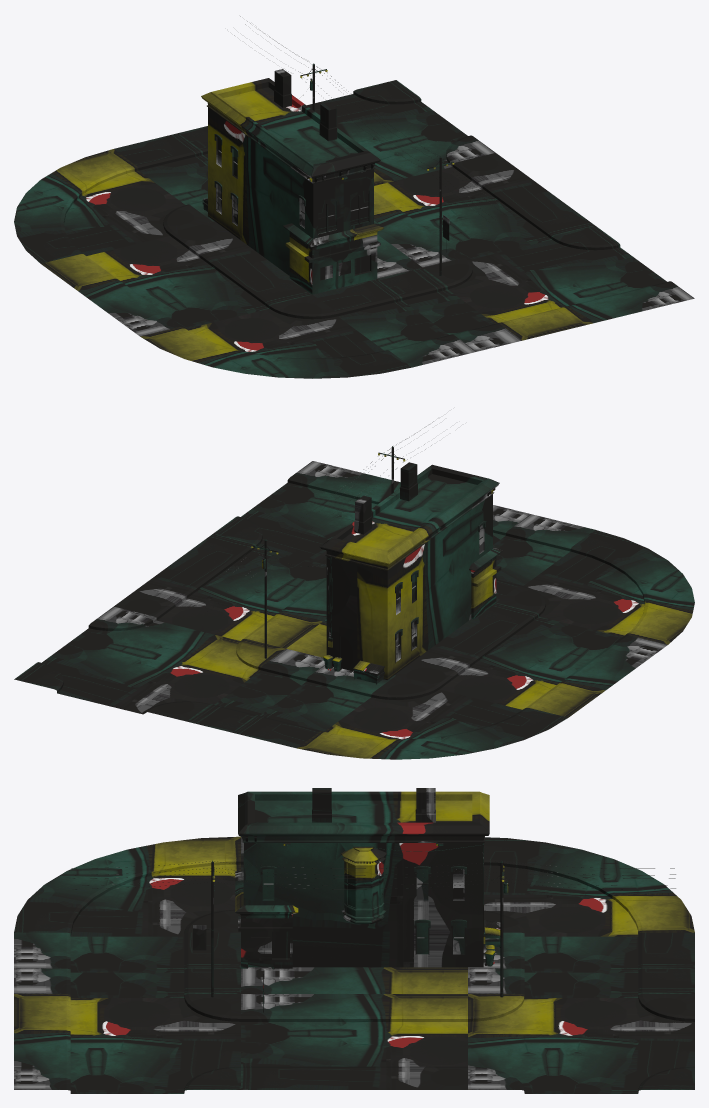
The model's file is street.fbx.
The picture shows the model from 3 angles, top to bottom: view 1: azimuth 30°, elevation 25°; view 2: azimuth 150°, elevation 25°; view 3: azimuth 270°, elevation 25°; orthographic projection. The views are drawn at different scales.
Parts seen in each view (by area): view 1: Plane.010, Plane.004, Plane.000, Main, Plane.011, Plane.001, Plane.009, Roof.001, Plane.007, Plane.012, Bulding, Roof (+1 smaller); view 2: Plane.010, Plane.007, Main, Plane.000, Plane.001, Plane.011, Plane.012, Roof.001, Plane.004, Plane.009, Bulding, Circle.004 (+1 smaller); view 3: Plane.000, Main, Plane.007, Plane.004, Plane.001, Plane.011, Plane.009, Roof.001, Plane.012, Balcony.002, Bulding, Circle.004 (+2 smaller).
Boxes of the visible parts, <box> form: Plane.010: <box>41,221,311,336</box>; Plane.004: <box>423,225,694,340</box>; Plane.000: <box>374,153,594,278</box>; Main: <box>208,107,373,275</box>; Plane.011: <box>14,149,212,263</box>; Plane.001: <box>140,294,411,378</box>; Plane.009: <box>313,268,521,367</box>; Roof.001: <box>201,69,380,183</box>; Plane.007: <box>307,80,495,185</box>; Plane.012: <box>114,126,214,221</box>; Bulding: <box>285,234,380,294</box>; Roof: <box>283,163,384,250</box>; Plane.010: <box>395,602,667,717</box>; Plane.007: <box>14,606,285,721</box>; Main: <box>326,494,492,679</box>; Plane.000: <box>114,533,326,657</box>; Plane.001: <box>496,530,694,644</box>; Plane.011: <box>297,675,568,759</box>; Plane.012: <box>187,648,395,748</box>; Roof.001: <box>320,462,499,570</box>; Plane.004: <box>213,461,400,564</box>; Plane.009: <box>493,505,594,601</box>; Bulding: <box>471,559,501,619</box>; Circle.004: <box>191,421,433,658</box>; Plane.000: <box>241,967,467,1089</box>; Main: <box>243,843,483,967</box>; Plane.007: <box>468,994,694,1093</box>; Plane.004: <box>14,994,240,1093</box>; Plane.001: <box>14,836,240,936</box>; Plane.011: <box>484,837,694,936</box>; Plane.009: <box>14,932,240,997</box>; Roof.001: <box>238,788,489,842</box>; Plane.012: <box>468,932,694,997</box>; Balcony.002: <box>260,846,466,928</box>; Bulding: <box>238,914,292,968</box>; Circle.004: <box>71,861,675,997</box>.
Size of the model in its own units: 473 by 152 by 538.
Materials: 15 (15 with a texture image).
